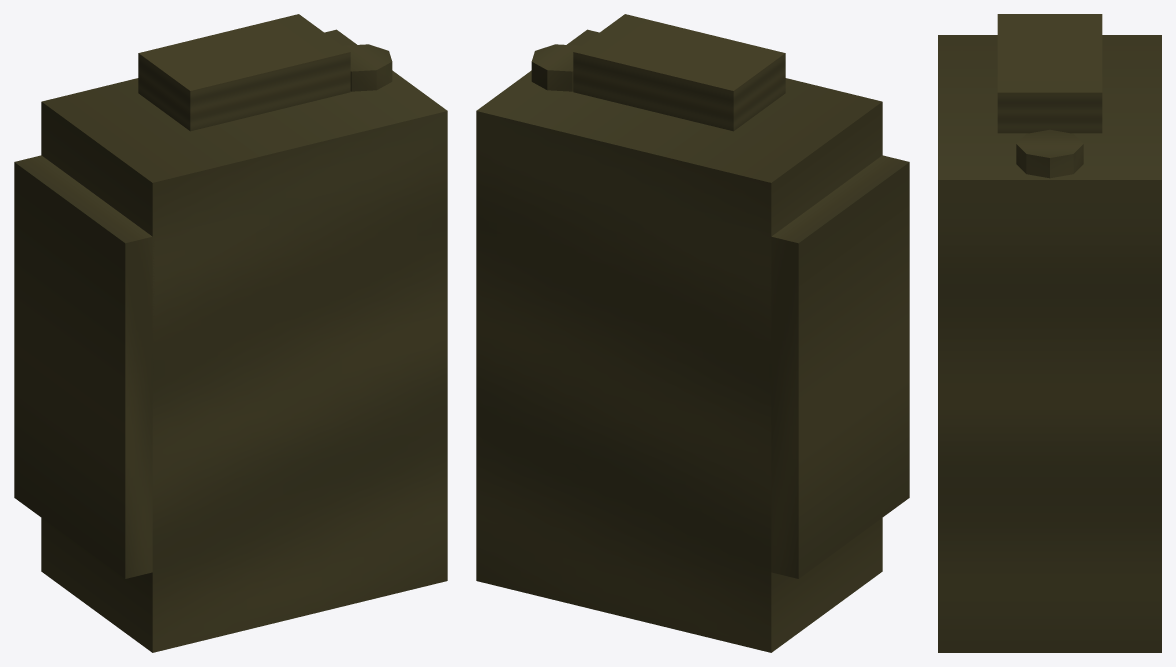
Rendered from prop_water_jerrycan_a.glb.
The picture shows the model from 3 angles, left to right: view 1: azimuth 30°, elevation 25°; view 2: azimuth 150°, elevation 25°; view 3: azimuth 270°, elevation 25°; orthographic projection.
Visible parts, largest first — view 1: prop_water_jerrycan_a; view 2: prop_water_jerrycan_a; view 3: prop_water_jerrycan_a.
Boxes of the visible parts, box(x1,y1,x2,y2) form: prop_water_jerrycan_a: box(14, 14, 447, 652); prop_water_jerrycan_a: box(476, 14, 909, 652); prop_water_jerrycan_a: box(938, 14, 1161, 652).
Size of the model in its own units: 0.5025 by 0.78 by 0.3.
Materials: 1 (1 with a texture image).
